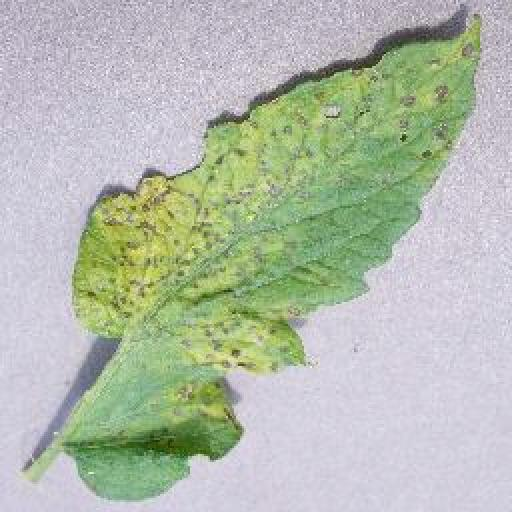disease_tomato: (70, 14, 484, 500)
